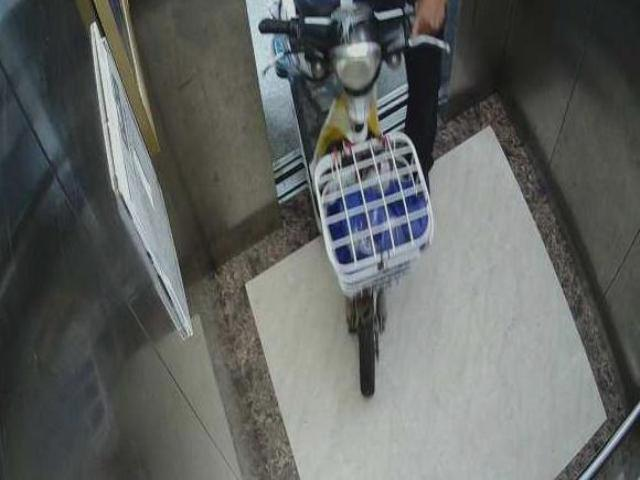emotor: (260, 6, 436, 400)
